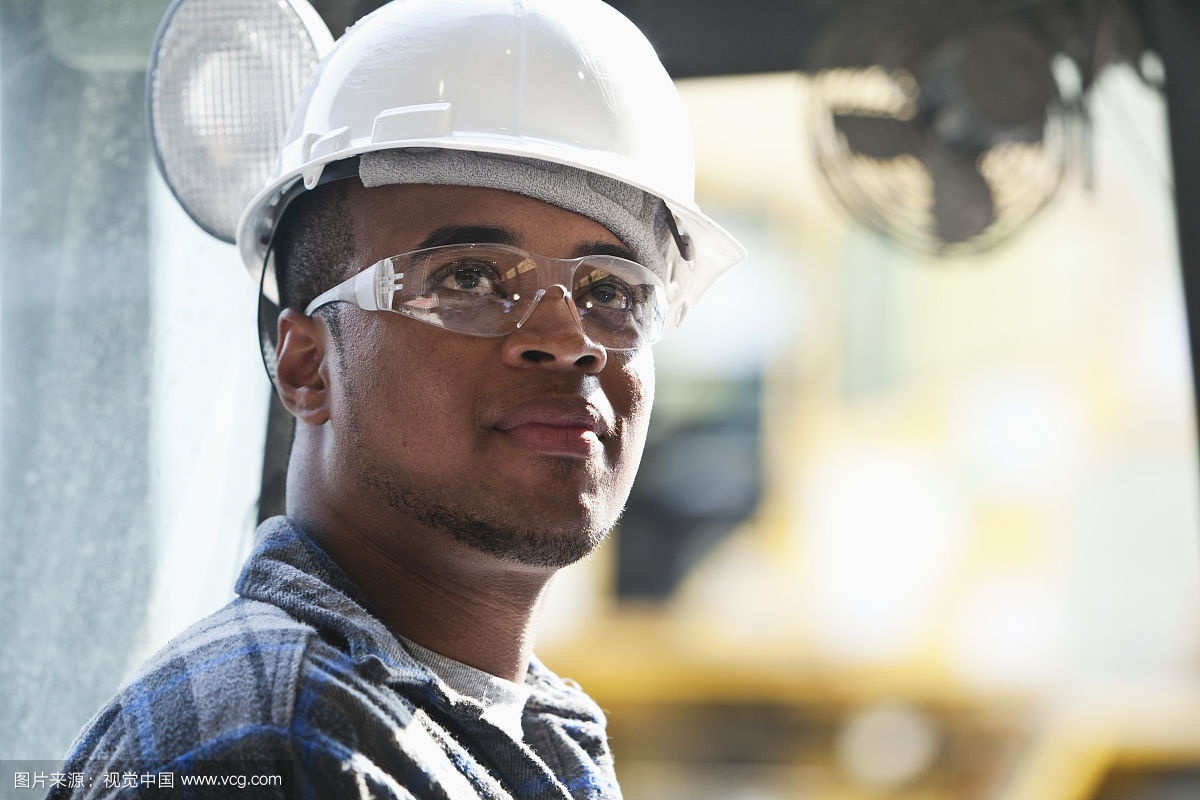white: (234, 1, 713, 572)
